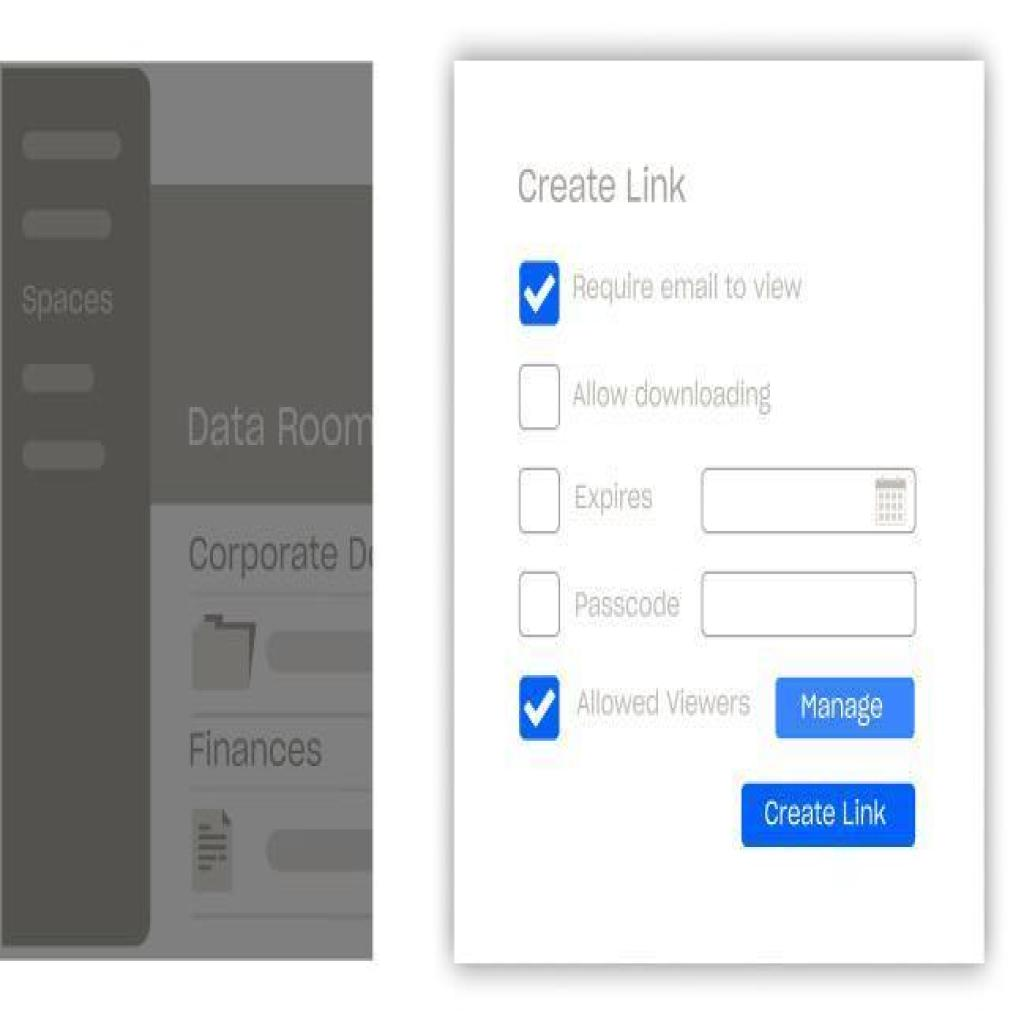button: (742, 781, 915, 850), (775, 675, 915, 738)
checkbox: (518, 362, 562, 432), (518, 258, 562, 326), (519, 465, 559, 534), (521, 571, 560, 640), (520, 678, 558, 738)
icon: (874, 476, 907, 524)
input: (702, 465, 918, 536), (701, 572, 918, 637)
label: (571, 268, 813, 311), (569, 374, 778, 417), (574, 685, 756, 726), (519, 167, 685, 207), (570, 584, 682, 625), (570, 473, 658, 518)
